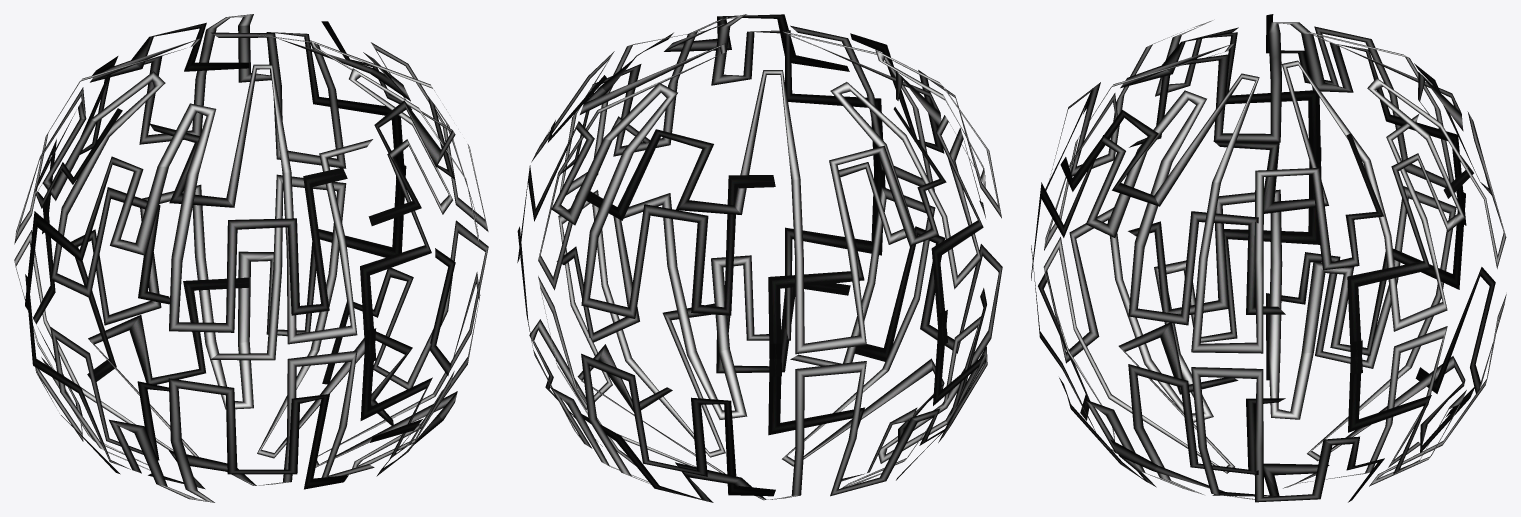
Rendered from vfx_kurp_0187.dae.
3 views of the same model, side by side, from view 1: azimuth 30°, elevation 25°; view 2: azimuth 150°, elevation 25°; view 3: azimuth 270°, elevation 25° (orthographic). The views are drawn at different scales.
Visible parts, largest first — view 1: vfx_kurp_0187; view 2: vfx_kurp_0187; view 3: vfx_kurp_0187.
Part boxes in pixels (box(x1,y1,x2,y2)): vfx_kurp_0187: box(14, 14, 488, 502); vfx_kurp_0187: box(517, 14, 1002, 502); vfx_kurp_0187: box(1031, 14, 1506, 502).
Size of the model in its own units: 7.72 by 7.8 by 7.68.
Materials: 1 (1 with a texture image).
